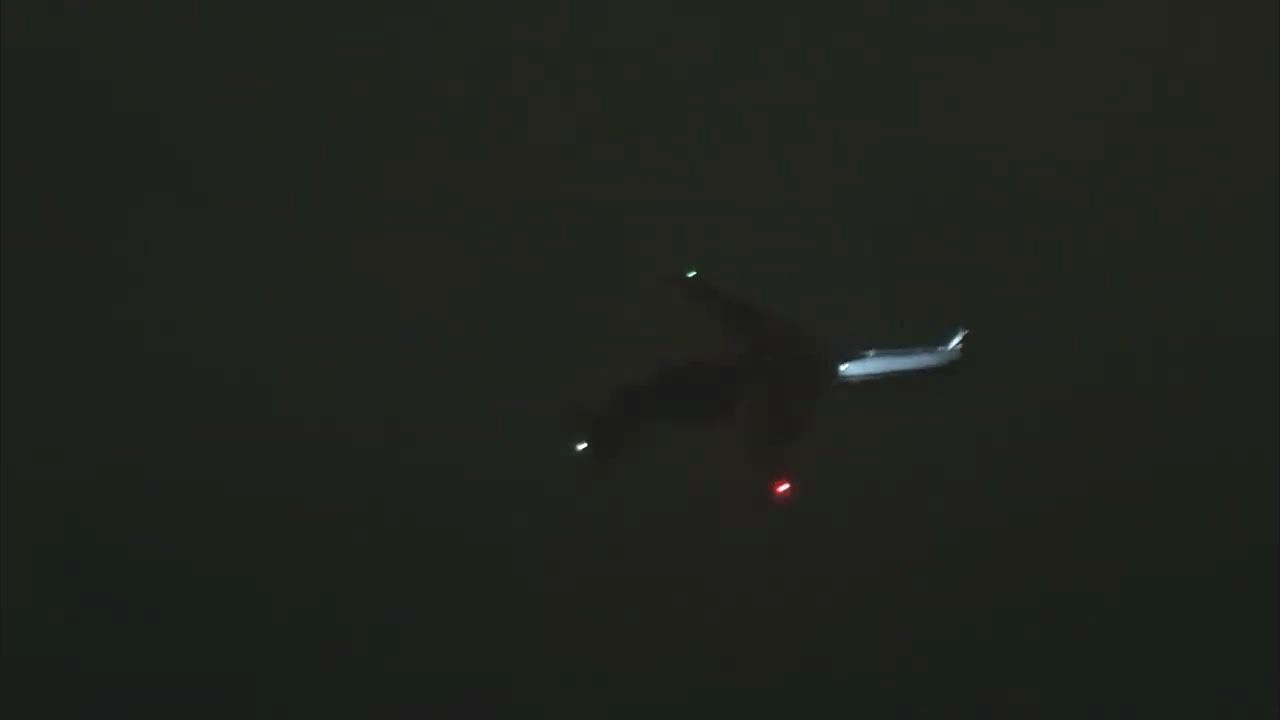Plane: (535, 227, 1104, 612)
